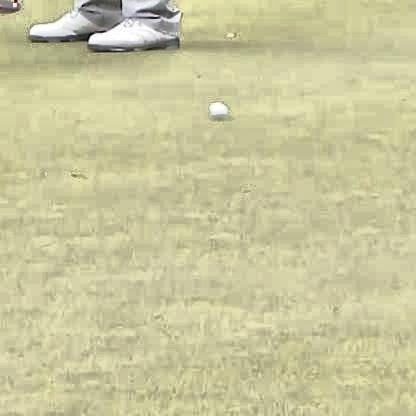golfball: (206, 99, 226, 119)
